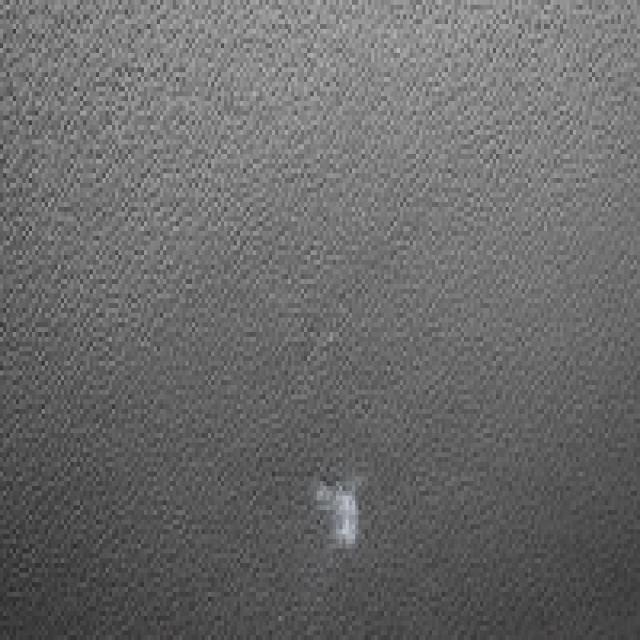Hole: (240, 374, 443, 629)
